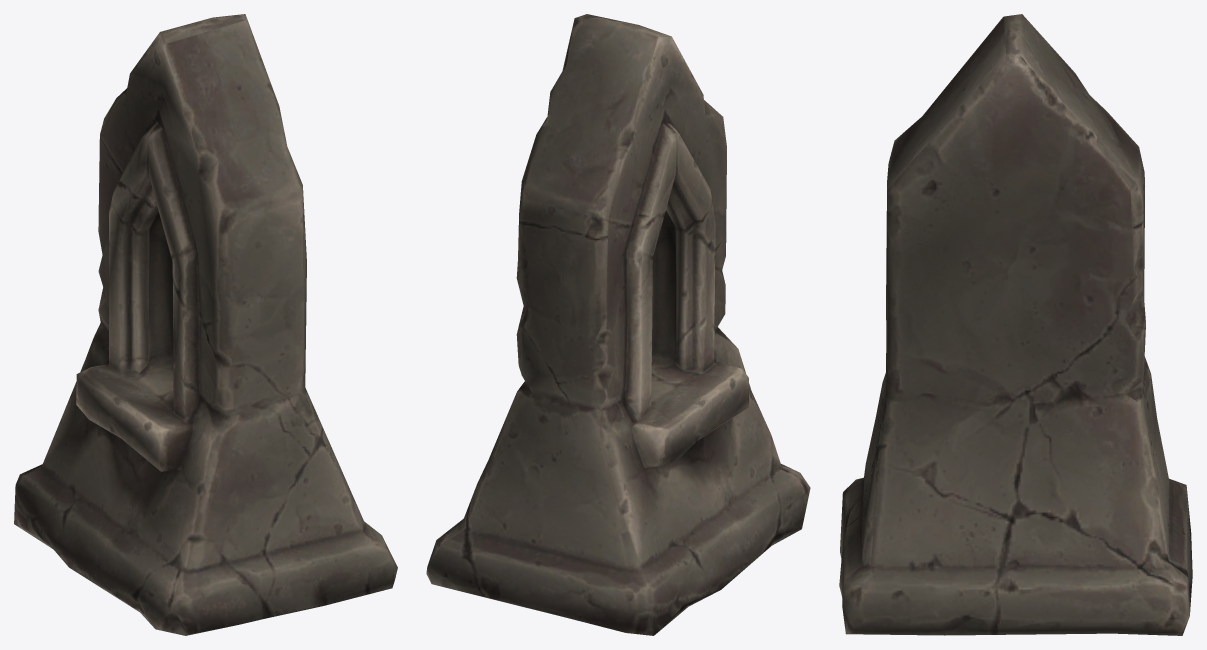
The model's file is Pillar_Base_Deco_A.fbx.
3 views of the same model, side by side, from view 1: azimuth 30°, elevation 25°; view 2: azimuth 150°, elevation 25°; view 3: azimuth 270°, elevation 25° (orthographic). The views are drawn at different scales.
Parts seen in each view (by area): view 1: Dn_HL_UND_Pillar_Base_Deco_A.001; view 2: Dn_HL_UND_Pillar_Base_Deco_A.001; view 3: Dn_HL_UND_Pillar_Base_Deco_A.001.
Part boxes in pixels (bbox=[...]): Dn_HL_UND_Pillar_Base_Deco_A.001: bbox=[14, 14, 397, 635]; Dn_HL_UND_Pillar_Base_Deco_A.001: bbox=[426, 14, 810, 635]; Dn_HL_UND_Pillar_Base_Deco_A.001: bbox=[839, 14, 1192, 635].
Bounding box in the file's own units: 2187 × 4728 × 2754.
Materials: 1 (1 with a texture image).
